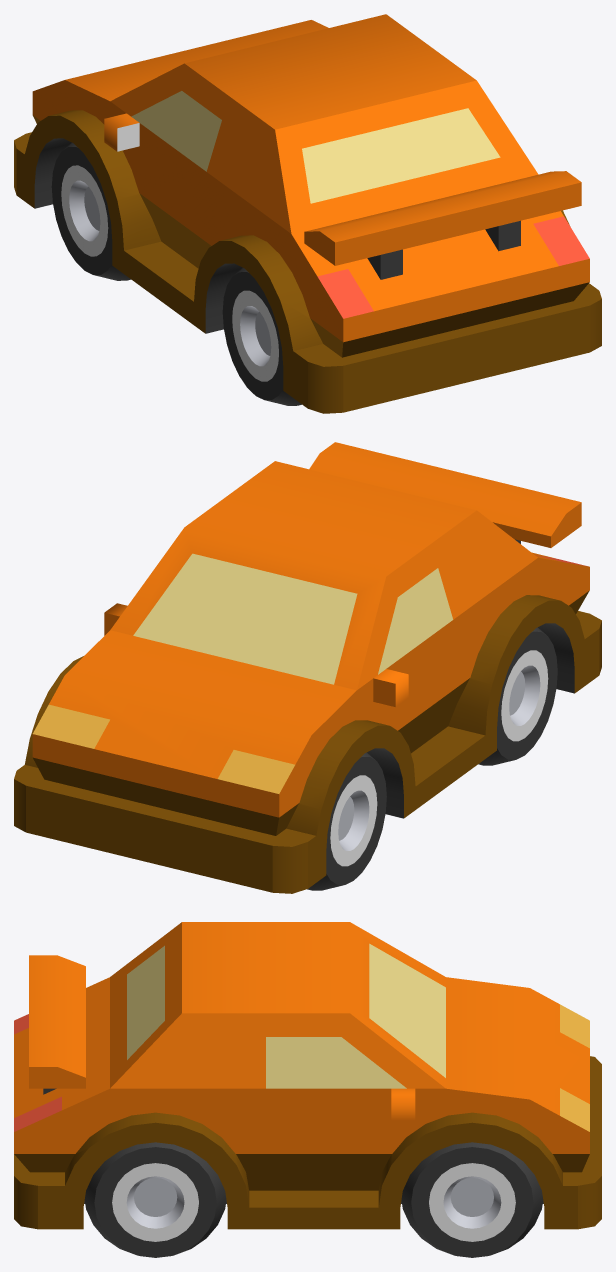
The model's file is Orange - Sedan Sports.glb.
3 renders of one model, top to bottom at view 1: azimuth 30°, elevation 25°; view 2: azimuth 150°, elevation 25°; view 3: azimuth 270°, elevation 25°, orthographic. The views are drawn at different scales.
Parts seen in each view (by area): view 1: body, spoiler, wheel_backLeft, wheel_frontLeft; view 2: body, spoiler, wheel_frontLeft, wheel_backLeft; view 3: body, wheel_backRight, wheel_frontRight, spoiler.
Boxes of the visible parts, x1,y1,x2,y2 form: body: (14, 14, 601, 413); spoiler: (304, 171, 581, 279); wheel_backLeft: (222, 267, 301, 405); wheel_frontLeft: (51, 142, 130, 280); body: (14, 461, 601, 893); spoiler: (309, 442, 581, 547); wheel_frontLeft: (307, 752, 386, 890); wheel_backLeft: (478, 627, 557, 765); body: (14, 922, 601, 1229); wheel_backRight: (84, 1142, 226, 1257); wheel_frontRight: (401, 1142, 543, 1257); spoiler: (29, 955, 85, 1094).
Size of the model in its own units: 1.3 by 1.1 by 2.45.
